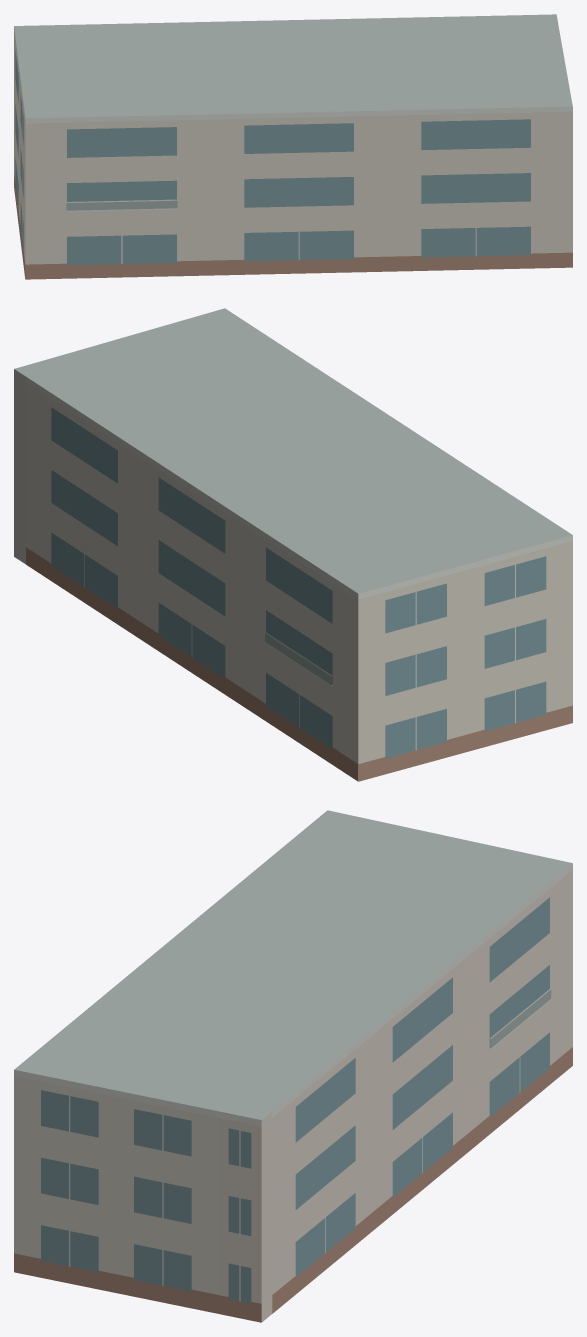
The model's file is survey-upis-32930865.glb.
3 views of the same model, one above another, from view 1: azimuth 30°, elevation 25°; view 2: azimuth 150°, elevation 25°; view 3: azimuth 270°, elevation 25° (orthographic). The views are drawn at different scales.
Visible parts, largest first — view 1: survey-upis-32930865.tmp; view 2: survey-upis-32930865.tmp; view 3: survey-upis-32930865.tmp.
Part boxes in pixels (left/top/right/bottom): survey-upis-32930865.tmp: left=14, top=14, right=572, bottom=279; survey-upis-32930865.tmp: left=14, top=308, right=572, bottom=781; survey-upis-32930865.tmp: left=14, top=810, right=572, bottom=1322.
Size of the model in its own units: 25.28 by 7.7 by 19.26.
